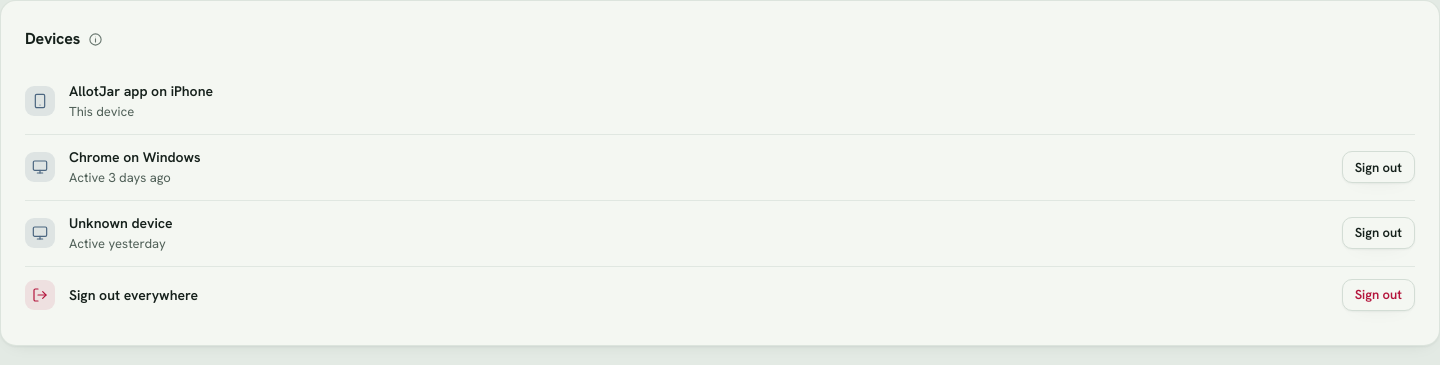
Test: DevicesCard › signs another device out and drops it from the list
Click the button with aria-label "Sign out Chrome on Windows" at [1378, 167], box x1=1342 y1=151 x2=1415 y2=183
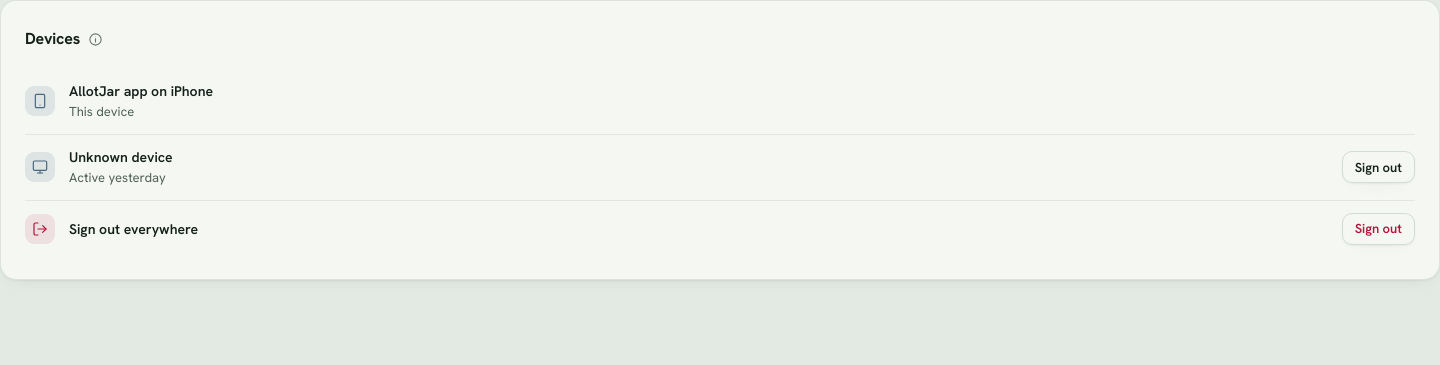
Expected: the heading "Chrome on Windows" is gone
